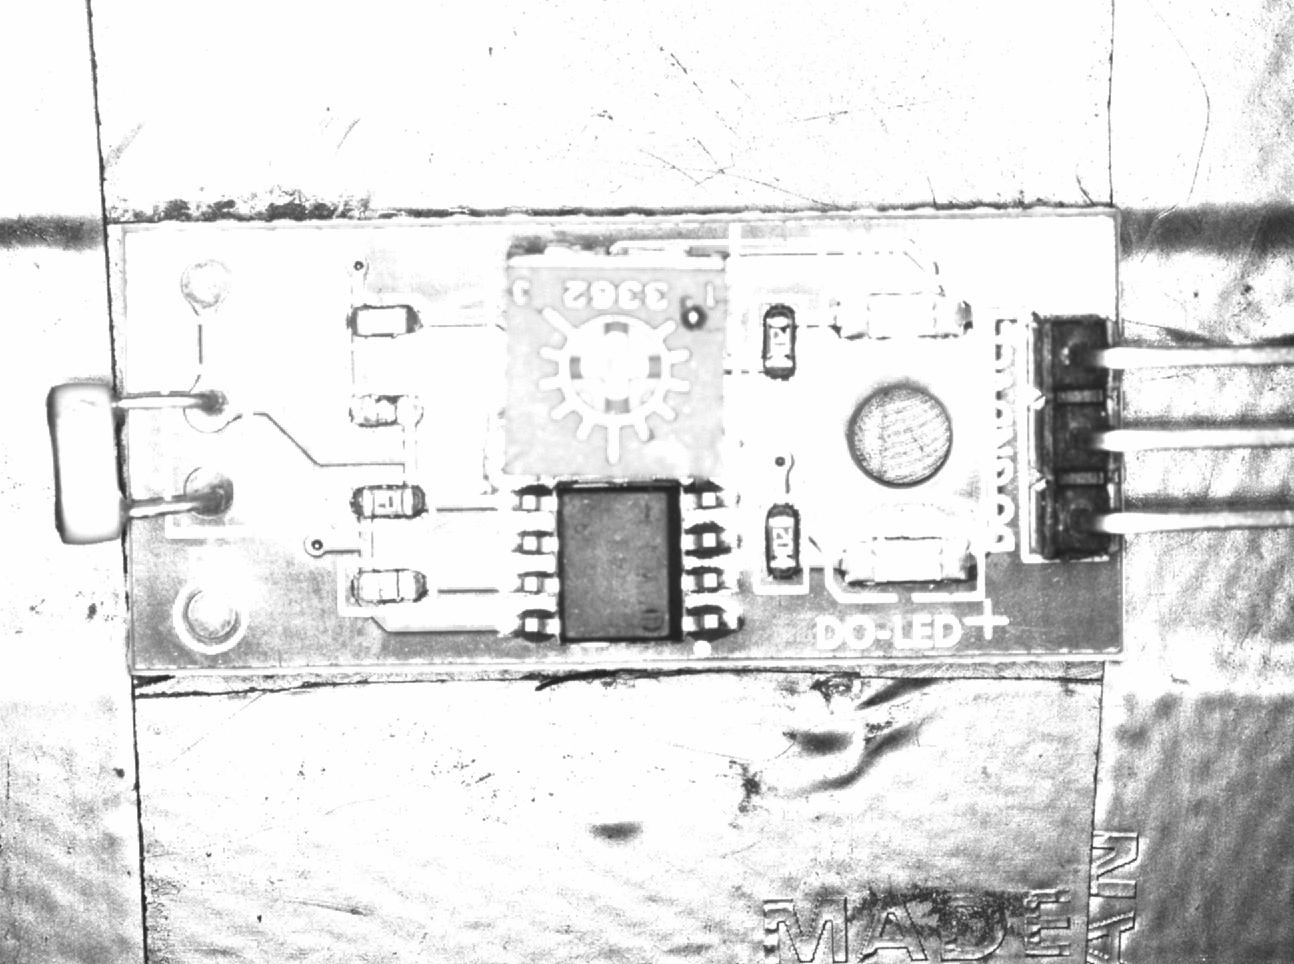miss: (339, 564, 435, 616), (341, 384, 430, 436)
ok: (754, 496, 806, 590), (755, 298, 803, 394), (341, 294, 428, 344), (341, 478, 435, 524)
